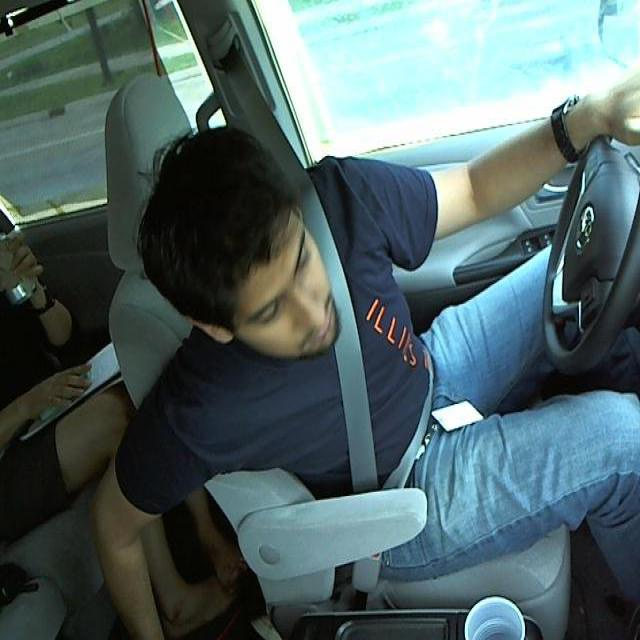seatbelt: (308, 223, 432, 484)
